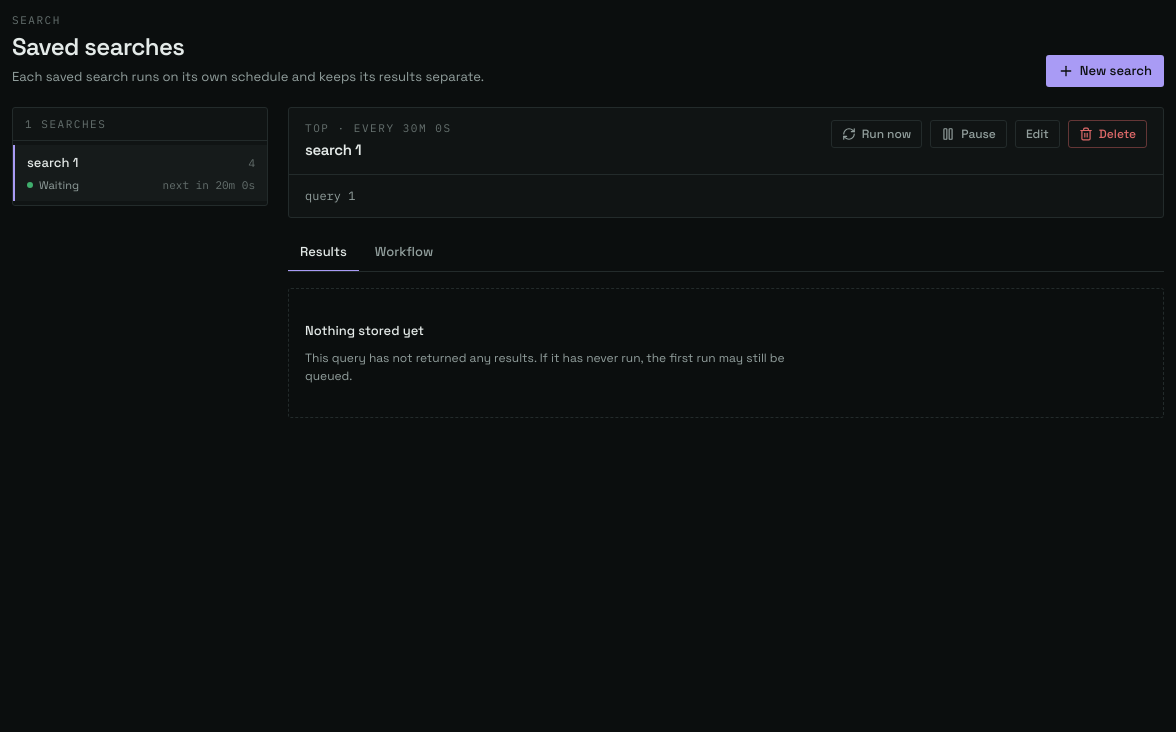
Test: the workflow tab › reports the schedule in the operator's terms
Click the tab "Workflow": (404, 253) [363,234,445,272]
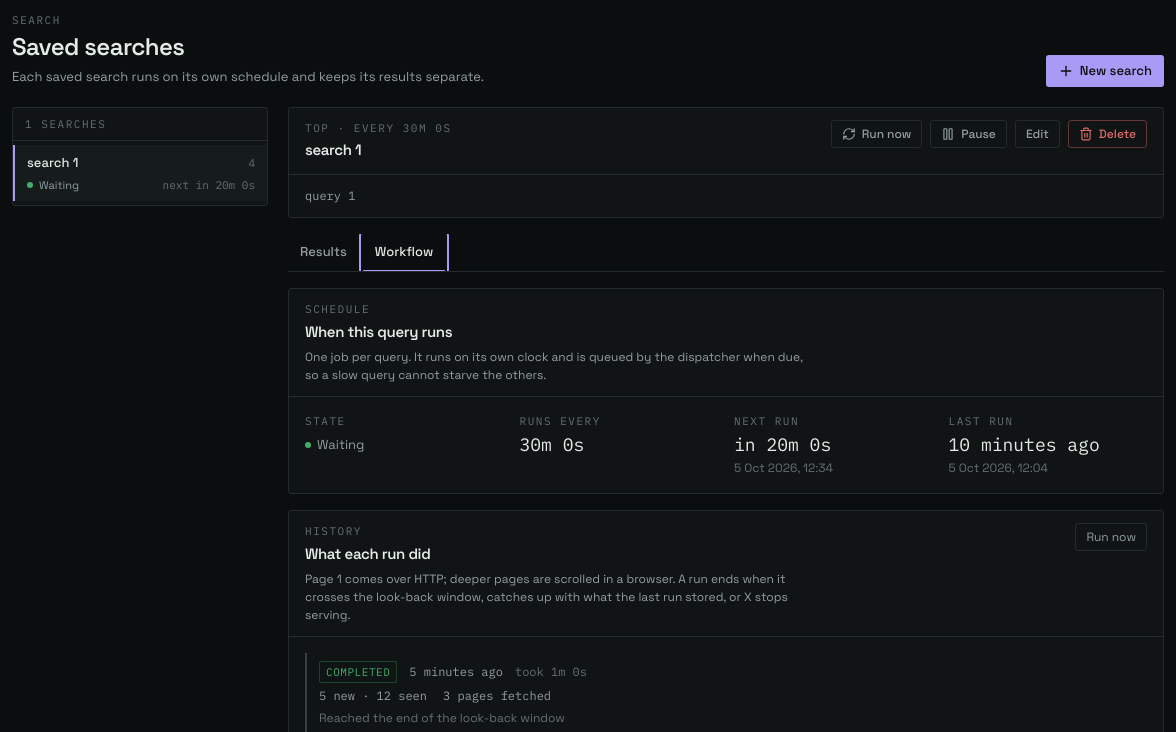
Check: the text "Runs every" is shown, box [520,414,601,428]
Check: the text "30m 0s" is shown, box [520,433,584,456]
Check: the text "Waiting" is shown, box [305,435,364,455]
